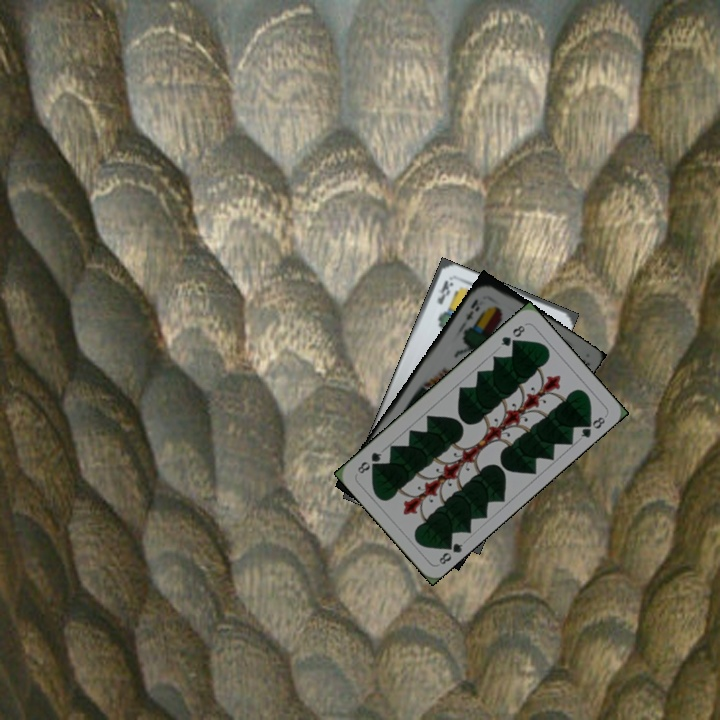EK: (433, 276, 456, 307), (461, 295, 482, 323)
G8: (435, 536, 466, 567), (496, 321, 528, 349)
